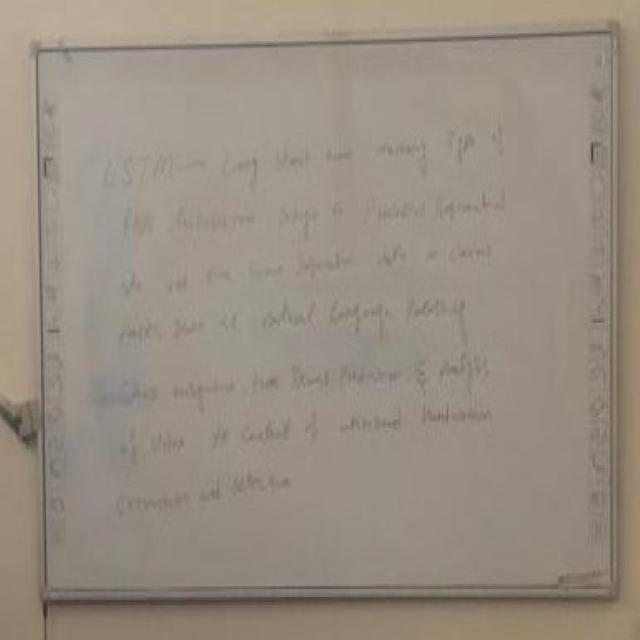White-board: (37, 31, 616, 597)
